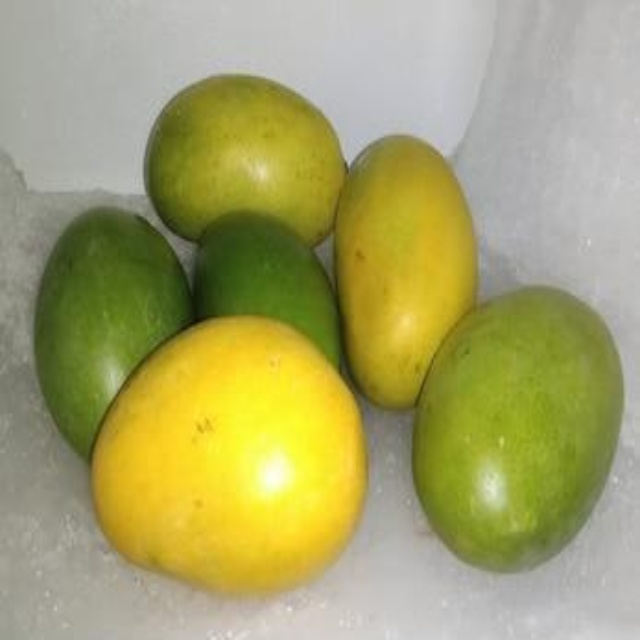mango: (88, 314, 372, 596), (421, 286, 624, 584), (26, 205, 194, 453), (330, 127, 474, 412), (147, 76, 357, 239), (195, 209, 357, 380)
